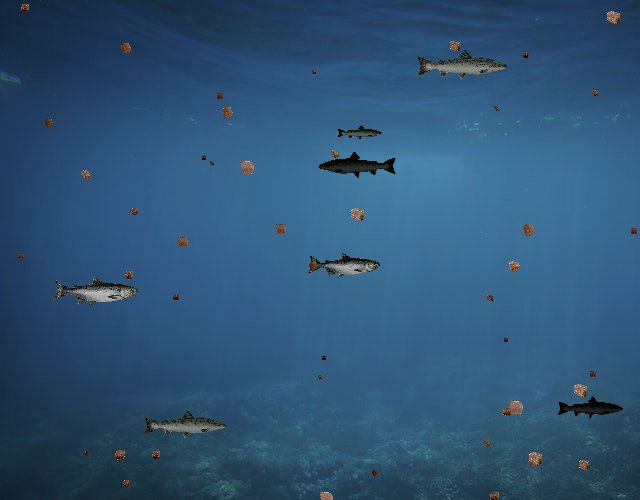Fish: (416, 49, 510, 83), (142, 409, 228, 440), (52, 276, 138, 307), (317, 150, 398, 179), (308, 253, 381, 279), (557, 396, 625, 420), (337, 125, 384, 142)
Pellet: (516, 217, 542, 243), (502, 254, 527, 279), (75, 164, 96, 186), (482, 291, 497, 305), (518, 48, 532, 62), (206, 158, 216, 168)
